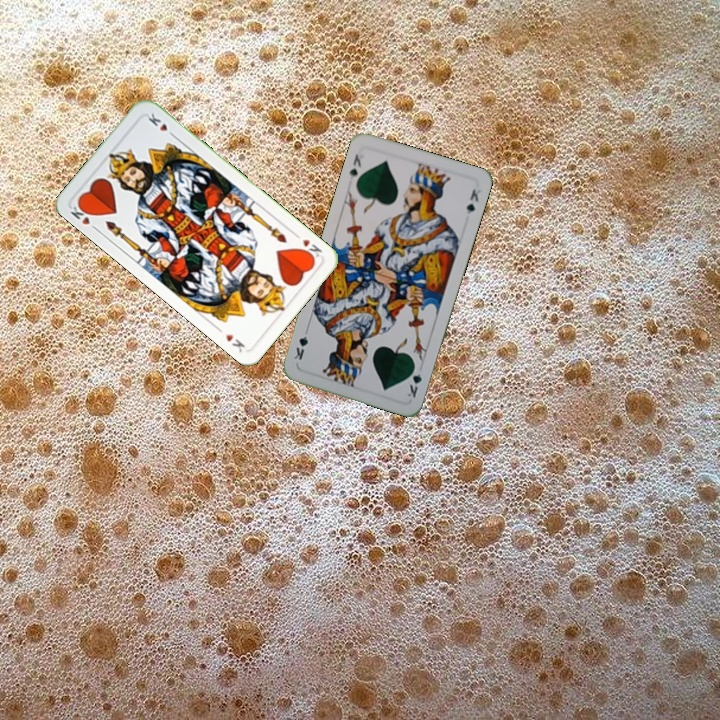GK: (403, 360, 424, 400), (345, 150, 366, 182)
HK: (66, 199, 101, 234), (297, 235, 325, 262)
